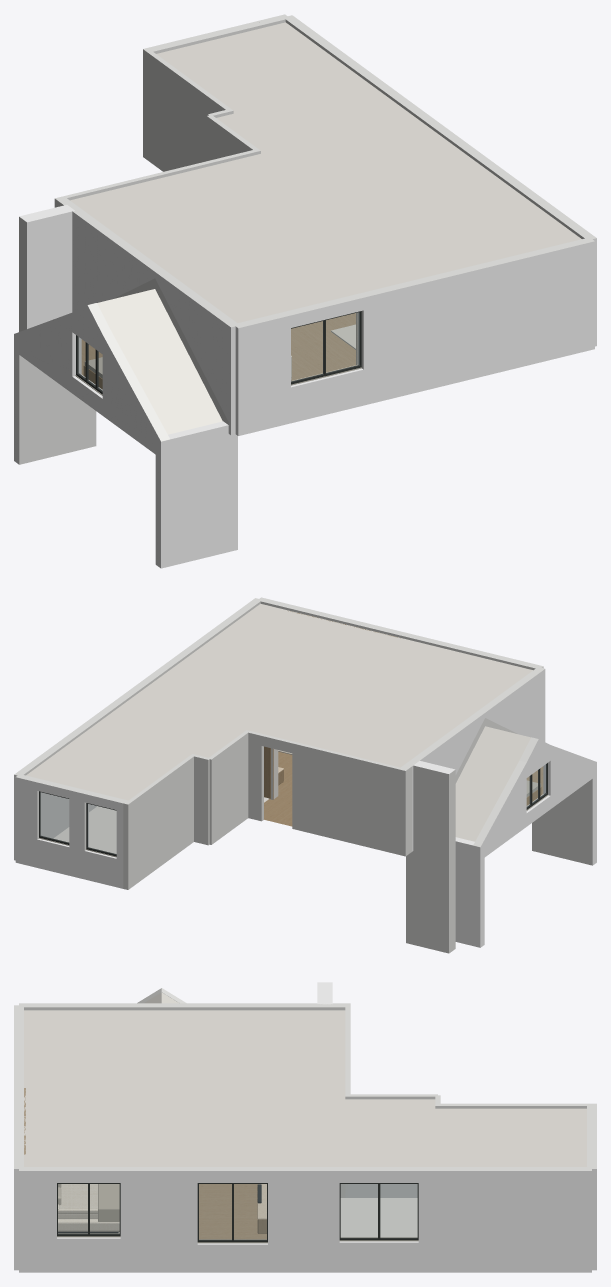
3 views of the same model, one above another, from view 1: azimuth 30°, elevation 25°; view 2: azimuth 150°, elevation 25°; view 3: azimuth 270°, elevation 25° (orthographic). The views are drawn at different scales.
Visible parts, largest first — view 1: Bedroom 02 | ceiling 0, Proposal | New wing south upper end pier.001, Bedroom 02 | ceiling 2, Proposal | Garage wing south return.001, Proposal | West upper principal facade above wing roof.001, Bedroom 02 | retained vault soffit, Proposal | New wing south upper pier 0.001, Proposal | Garage wing north return.001, Proposal | Entrance bay south return.001, Proposal | Guest bathroom west.001, Proposal | New wing south upper window 0 glass.001, Proposal | Continued roof garage wing gable south head 0.001 (+15 smaller); view 2: Bedroom 02 | ceiling 0, Bedroom 02 | ceiling 2, Proposal | Principal suite north partition pier 0.001, Proposal | Entrance bay south return.001, Bedroom 02 | retained vault soffit.001, Proposal | West upper principal facade above wing roof.001, Proposal | Guest bathroom west.001, Proposal | Garage wing south return.001, Proposal | Principal study west wall.001, Proposal | Garage wing north return.001, Proposal | North upper facade east end pier.001, Proposal | Courtyard upper return.001 (+19 smaller); view 3: Bedroom 02 | ceiling 0, Bedroom 02 | ceiling 2, Proposal | New wing east upper end pier.001, Proposal | New wing east upper pier 1.001, Proposal | New wing east upper pier 2.001, Proposal | New wing east upper window 2 glass.001, Proposal | New wing east upper pier 0.001, Proposal | New wing east upper window 1 glass.001, Bedroom 02 | floor 0, Bedroom 02 | floor 2, Proposal | New wing east upper window 0 glass.001, Proposal | New wing east upper sill 2.001 (+14 smaller).
Part boxes in pixels (x1,y1,x2,y2): Bedroom 02 | ceiling 0: (70, 141, 581, 322); Proposal | New wing south upper end pier.001: (358, 237, 594, 405); Bedroom 02 | ceiling 2: (156, 22, 447, 178); Proposal | Garage wing south return.001: (155, 421, 237, 568); Proposal | West upper principal facade above wing roof.001: (81, 216, 237, 421); Bedroom 02 | retained vault soffit: (97, 289, 222, 434); Proposal | New wing south upper pier 0.001: (233, 311, 290, 435); Proposal | Garage wing north return.001: (14, 335, 96, 464); Proposal | Entrance bay south return.001: (19, 203, 81, 331); Proposal | Guest bathroom west.001: (145, 50, 231, 171); Proposal | New wing south upper window 0 glass.001: (291, 312, 359, 381); Proposal | Continued roof garage wing gable south head 0.001: (102, 332, 169, 441); Bedroom 02 | ceiling 0: (152, 603, 532, 767); Bedroom 02 | ceiling 2: (26, 683, 272, 800); Proposal | Principal suite north partition pier 0.001: (292, 741, 400, 854); Proposal | Entrance bay south return.001: (406, 761, 455, 953); Bedroom 02 | retained vault soffit.001: (455, 726, 530, 841); Proposal | West upper principal facade above wing roof.001: (420, 668, 543, 774); Proposal | Guest bathroom west.001: (127, 754, 193, 885); Proposal | Garage wing south return.001: (532, 763, 596, 865); Proposal | Principal study west wall.001: (208, 730, 248, 844); Proposal | Garage wing north return.001: (455, 837, 484, 947); Proposal | North upper facade east end pier.001: (15, 774, 41, 867); Proposal | Courtyard upper return.001: (124, 789, 148, 889); Bedroom 02 | ceiling 0: (24, 1010, 345, 1166); Bedroom 02 | ceiling 2: (282, 1099, 586, 1166); Proposal | New wing east upper end pier.001: (418, 1167, 591, 1272); Proposal | New wing east upper pier 1.001: (120, 1167, 197, 1272); Proposal | New wing east upper pier 2.001: (268, 1167, 339, 1272); Proposal | New wing east upper window 2 glass.001: (341, 1184, 417, 1237); Proposal | New wing east upper pier 0.001: (19, 1167, 56, 1272); Proposal | New wing east upper window 1 glass.001: (199, 1184, 266, 1239); Bedroom 02 | floor 0: (199, 1184, 266, 1239); Bedroom 02 | floor 2: (340, 1198, 417, 1237); Proposal | New wing east upper window 0 glass.001: (58, 1184, 119, 1233); Proposal | New wing east upper sill 2.001: (339, 1241, 418, 1272).
Size of the model in its own units: 10.72 by 5.35 by 13.28.
24 materials, 3 textured.
